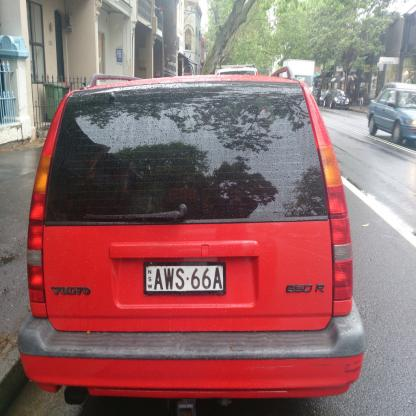Car: (27, 59, 353, 402), (365, 83, 416, 142), (326, 90, 352, 111)
